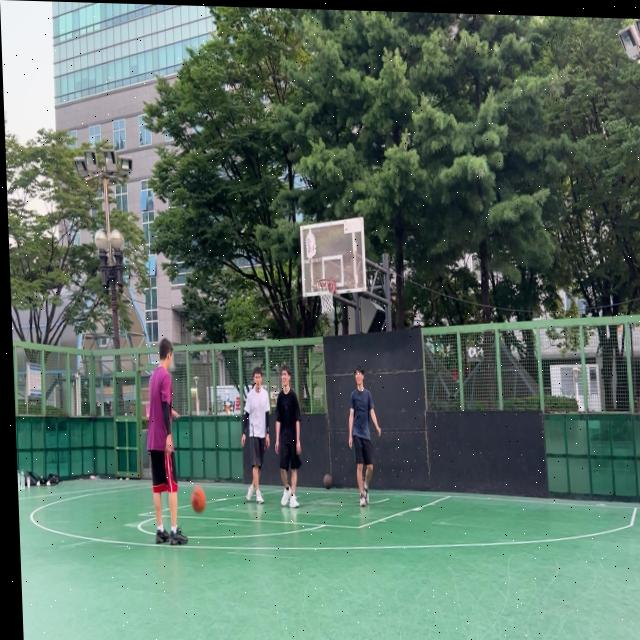basketball: (191, 486, 206, 513), (323, 474, 333, 490)
hoop: (316, 279, 338, 316)
